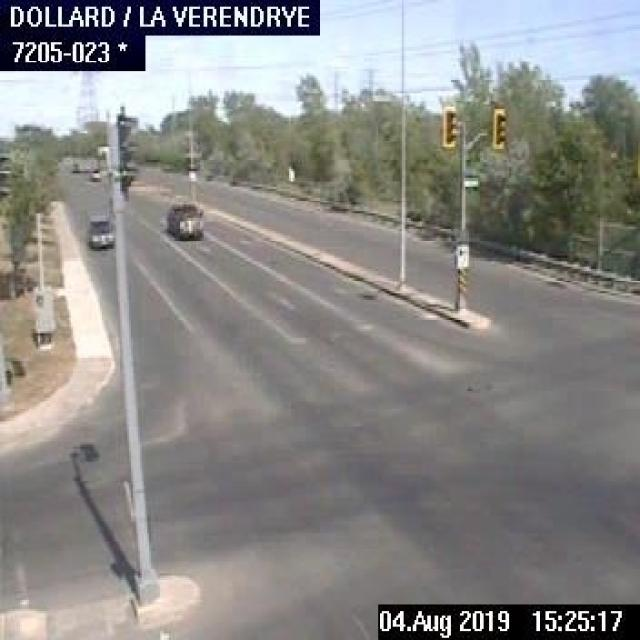vehicle: (164, 202, 204, 236), (85, 213, 113, 247), (89, 166, 104, 178)
